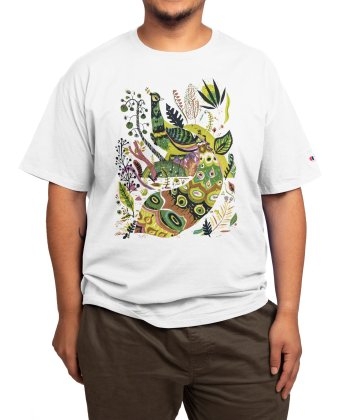design: (111, 74, 240, 243)
